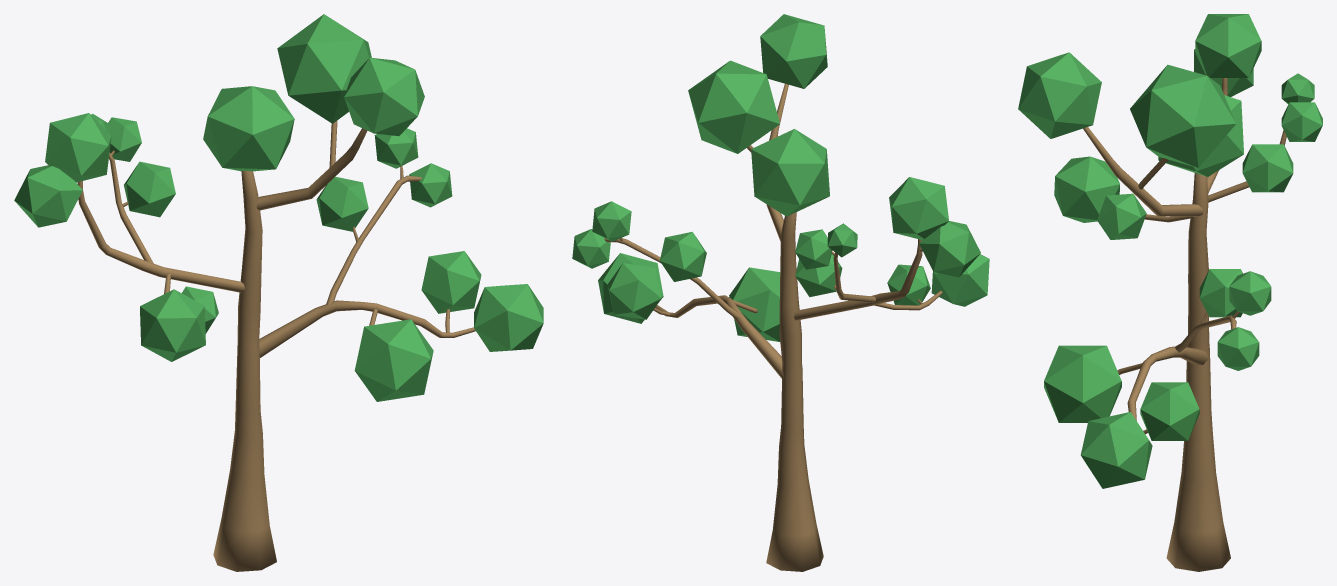
File: Tree implementation.fbx
3 renders of one model, left to right at view 1: azimuth 30°, elevation 25°; view 2: azimuth 150°, elevation 25°; view 3: azimuth 270°, elevation 25°, orthographic. The views are drawn at different scales.
Parts seen in each view (by area): view 1: Vert.002, Icosphere.008, Icosphere.015, Icosphere.011, Icosphere.007, Icosphere.013, Icosphere.005, Icosphere, Icosphere.012, Icosphere.001, Icosphere.004, Icosphere.009 (+4 smaller); view 2: Vert.002, Icosphere.008, Icosphere.015, Icosphere.007, Icosphere, Icosphere.011, Icosphere.012, Icosphere.001, Icosphere.005, Icosphere.009, Icosphere.010, Icosphere.013 (+5 smaller); view 3: Vert.002, Icosphere.008, Icosphere.007, Icosphere.011, Icosphere.013, Icosphere, Icosphere.005, Icosphere.012, Icosphere.004, Icosphere.006, Icosphere.015, Icosphere.009 (+5 smaller).
Boxes of the visible parts, x1,y1,x2,y2 form: Vert.002: (77,120,475,571); Icosphere.008: (277,14,371,123); Icosphere.015: (203,86,294,171); Icosphere.011: (354,319,433,401); Icosphere.007: (344,57,424,136); Icosphere.013: (474,284,543,351); Icosphere.005: (140,289,205,361); Icosphere: (45,113,111,182); Icosphere.012: (421,251,481,313); Icosphere.001: (14,165,82,227); Icosphere.004: (124,161,175,217); Icosphere.009: (316,176,368,231); Vert.002: (604,83,942,571); Icosphere.008: (688,60,779,153); Icosphere.015: (751,129,829,216); Icosphere.007: (760,14,827,88); Icosphere: (889,177,948,239); Icosphere.011: (729,267,780,341); Icosphere.012: (607,263,661,319); Icosphere.001: (919,221,980,277); Icosphere.005: (931,254,989,306); Icosphere.009: (660,231,706,281); Icosphere.010: (592,201,631,241); Icosphere.013: (598,253,663,323); Vert.002: (1083,78,1286,571); Icosphere.008: (1130,64,1236,167); Icosphere.007: (1018,52,1101,138); Icosphere.011: (1044,345,1121,422); Icosphere.013: (1080,412,1152,488); Icosphere: (1195,14,1261,77); Icosphere.005: (1054,156,1119,222); Icosphere.012: (1140,382,1199,440); Icosphere.004: (1242,144,1293,192); Icosphere.006: (1097,193,1146,239); Icosphere.015: (1158,95,1243,176); Icosphere.009: (1199,269,1242,317).
Size of the model in its own units: 561 by 612 by 315.
